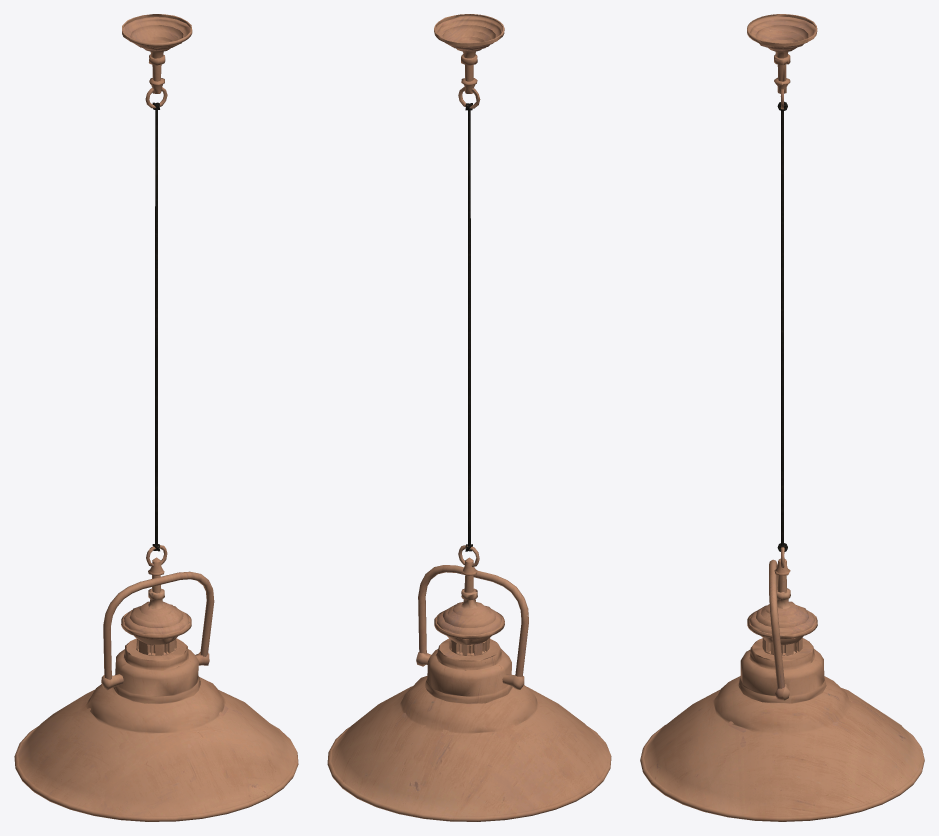
File: office_lamp.fbx
3 renders of one model, left to right at view 1: azimuth 30°, elevation 25°; view 2: azimuth 150°, elevation 25°; view 3: azimuth 270°, elevation 25°, orthographic.
Parts seen in each view (by area): view 1: office_lamp; view 2: office_lamp; view 3: office_lamp.
Boxes of the visible parts, bbox=[...] form: office_lamp: bbox=[14, 14, 298, 821]; office_lamp: bbox=[327, 14, 611, 821]; office_lamp: bbox=[640, 14, 924, 821].
Size of the model in its own units: 47.21 by 138 by 47.21.
